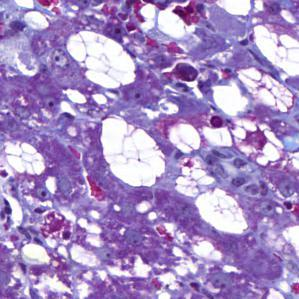ballooning: (99, 115, 168, 189), (63, 27, 138, 91), (233, 64, 297, 118), (191, 187, 252, 238)
